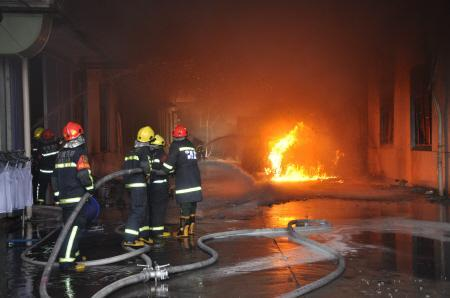fire: (259, 120, 347, 184)
smoke: (149, 12, 369, 95)
